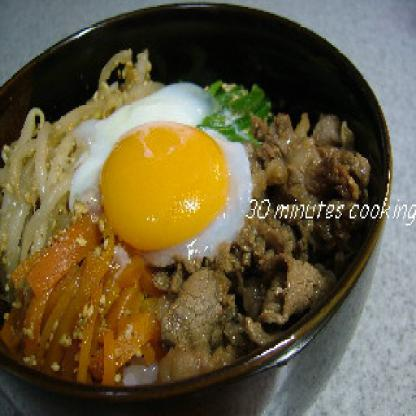bibimbap: (9, 16, 393, 414)
